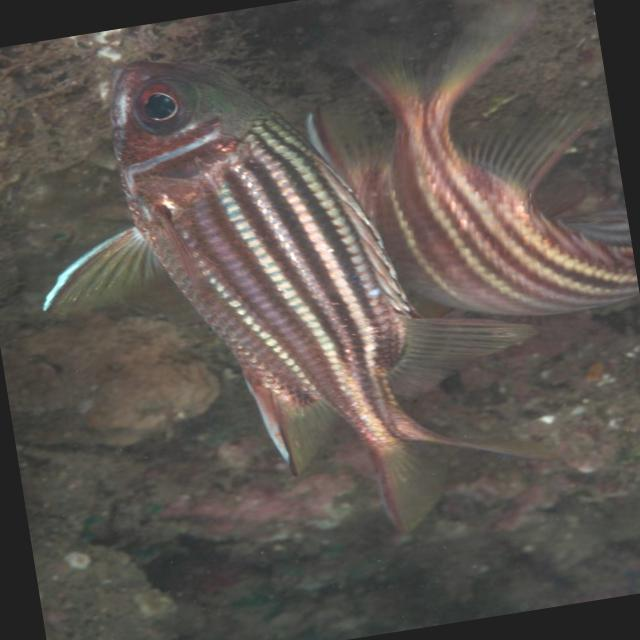Asker Baligi: (6, 2, 574, 585)
